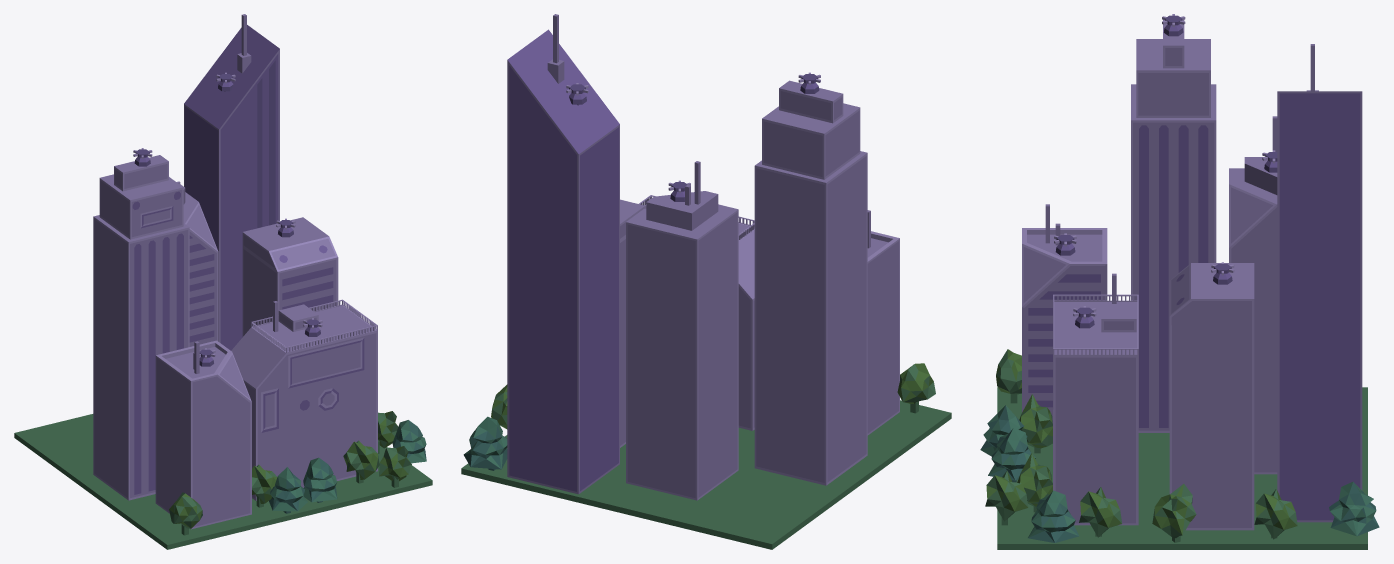
Rendered from Apartments (1).fbx.
3 renders of one model, left to right at view 1: azimuth 30°, elevation 25°; view 2: azimuth 150°, elevation 25°; view 3: azimuth 270°, elevation 25°, orthographic. The views are drawn at different scales.
Parts seen in each view (by area): view 1: Apartment2, Apartment6, Apartment4, Apartment(Ground).001, Apartment1, Apartment5, Apartment3; view 2: Apartment4, Apartment2, Apartment3, Apartment(Ground).001, Apartment1, Apartment6, Apartment5; view 3: Apartment4, Apartment(Ground).001, Apartment2, Apartment5, Apartment6, Apartment3, Apartment1.
Boxes of the visible parts, left/top/right/bottom form: Apartment2: left=93, top=155, right=189, bottom=500; Apartment6: left=231, top=299, right=377, bottom=500; Apartment4: left=184, top=14, right=279, bottom=350; Apartment(Ground).001: left=14, top=411, right=432, bottom=549; Apartment1: left=155, top=340, right=251, bottom=529; Apartment5: left=242, top=217, right=338, bottom=336; Apartment3: left=179, top=184, right=218, bottom=346; Apartment4: left=507, top=14, right=619, bottom=494; Apartment2: left=754, top=80, right=867, bottom=485; Apartment3: left=626, top=161, right=738, bottom=500; Apartment(Ground).001: left=461, top=363, right=951, bottom=549; Apartment1: left=867, top=210, right=899, bottom=435; Apartment6: left=639, top=195, right=754, bottom=430; Apartment5: left=620, top=199, right=646, bottom=447; Apartment4: left=1277, top=44, right=1362, bottom=522; Apartment(Ground).001: left=980, top=349, right=1379, bottom=549; Apartment2: left=1131, top=19, right=1216, bottom=432; Apartment5: left=1169, top=263, right=1254, bottom=530; Apartment6: left=1053, top=273, right=1138, bottom=525; Apartment3: left=1229, top=116, right=1277, bottom=474; Apartment1: left=1022, top=204, right=1107, bottom=423.
Size of the model in its own units: 185 by 244 by 188.
